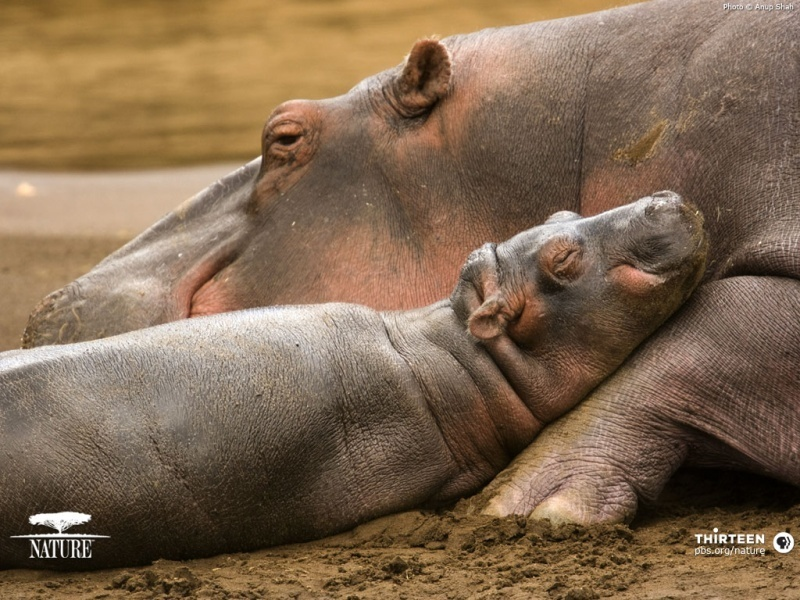hipopotamo: (17, 1, 800, 410), (1, 181, 712, 584)
